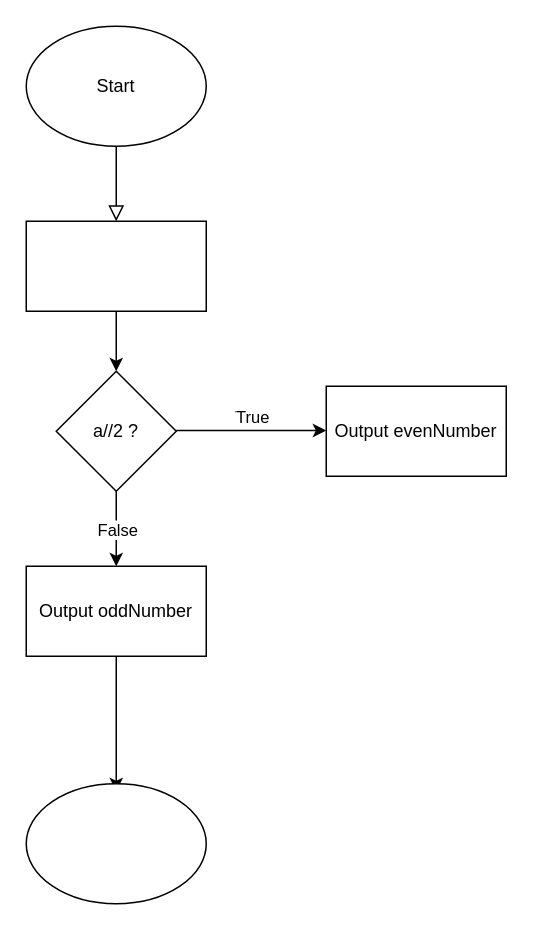
The diagram is 533 pixels wide and 930 high, and some of its shapes have lost their labels. The centre of each missing label's shape, as x and y in pixels:
"End" goes at point 115,843.
"Input a" goes at point 115,265.
